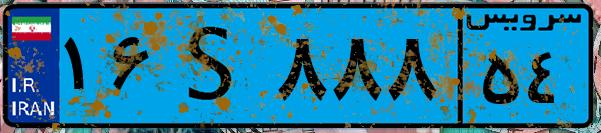1: (57, 26, 110, 100)
4: (525, 38, 570, 115)
5: (475, 38, 525, 113)
6: (110, 28, 158, 98)
8: (270, 28, 330, 110), (385, 28, 445, 110), (330, 28, 385, 110)
S: (158, 12, 270, 120)
